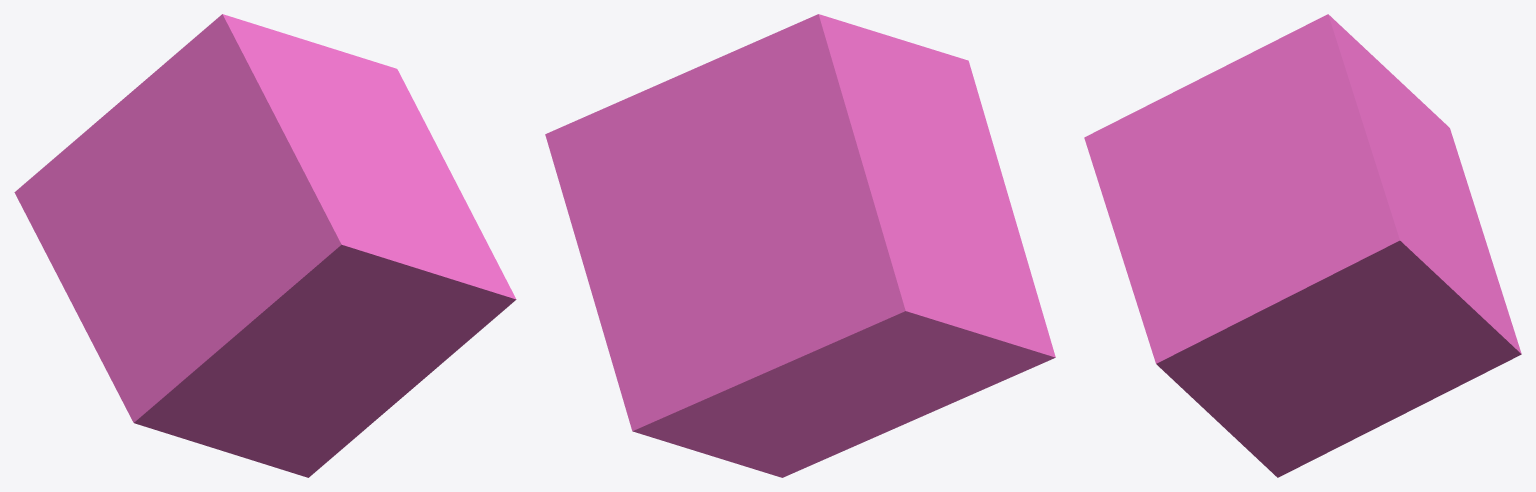
File: InfoExpo_YoNosotrosElArte.gltf
3 views of the same model, side by side, from view 1: azimuth 30°, elevation 25°; view 2: azimuth 150°, elevation 25°; view 3: azimuth 270°, elevation 25° (orthographic). The views are drawn at different scales.
Visible parts, largest first — view 1: InfoExpo_YoNosotrosElArte; view 2: InfoExpo_YoNosotrosElArte; view 3: InfoExpo_YoNosotrosElArte.
Boxes of the visible parts, left/top/right/bottom form: InfoExpo_YoNosotrosElArte: left=14, top=14, right=516, bottom=477; InfoExpo_YoNosotrosElArte: left=545, top=14, right=1055, bottom=477; InfoExpo_YoNosotrosElArte: left=1084, top=14, right=1521, bottom=477.
Size of the model in its own units: 0.3053 by 0.3661 by 0.3328.
